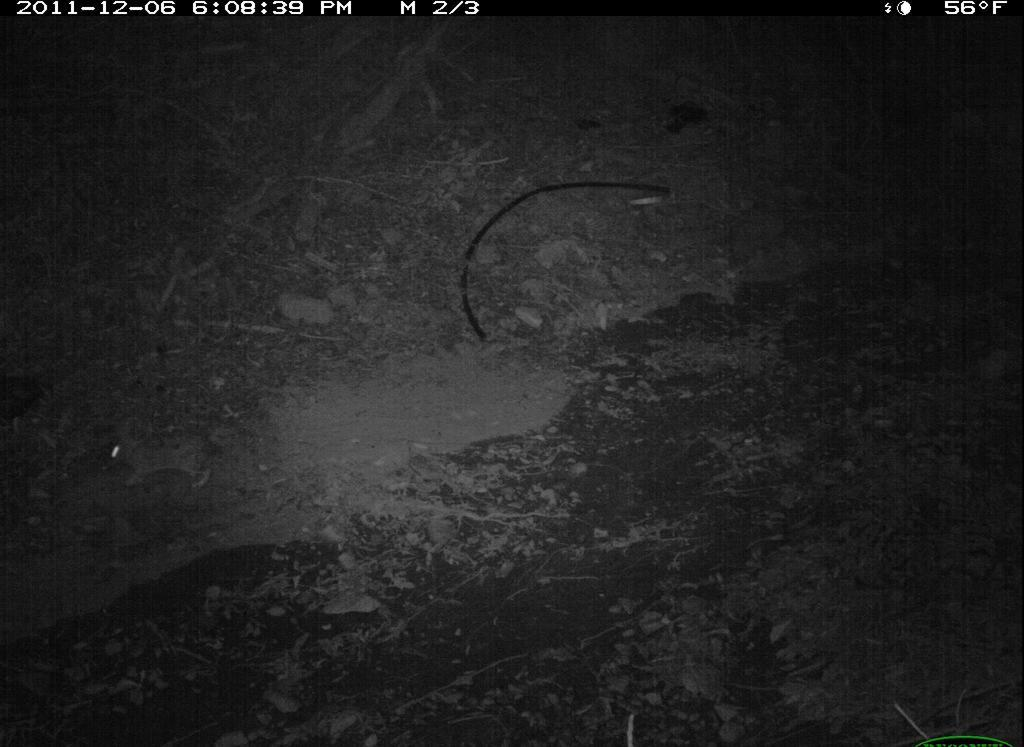rabbit: (103, 415, 231, 501)
